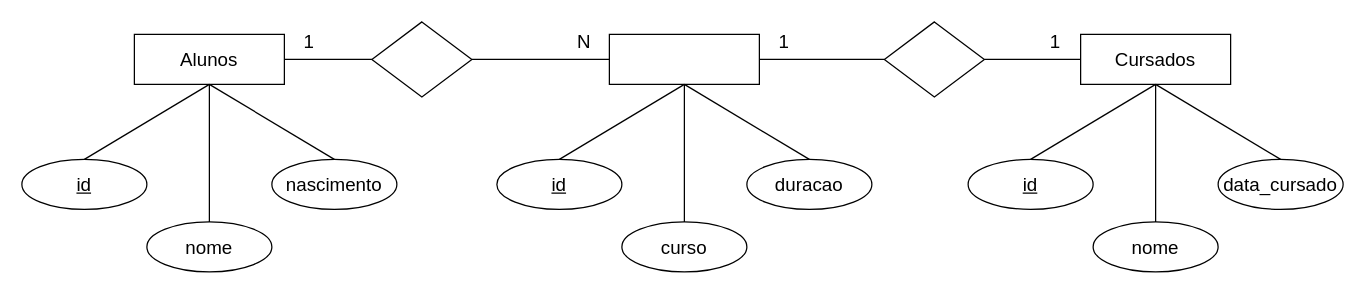
The diagram is 1365 pixels wide and 294 high, and some of its shapes have lost their labels. The shapes that lost their labels are listed below. From the top down, each one's centre as x and y in pixels, then its label:
At point (421, 59): "faz".
At point (683, 58): "Cursos".
At point (933, 59): "forma".
